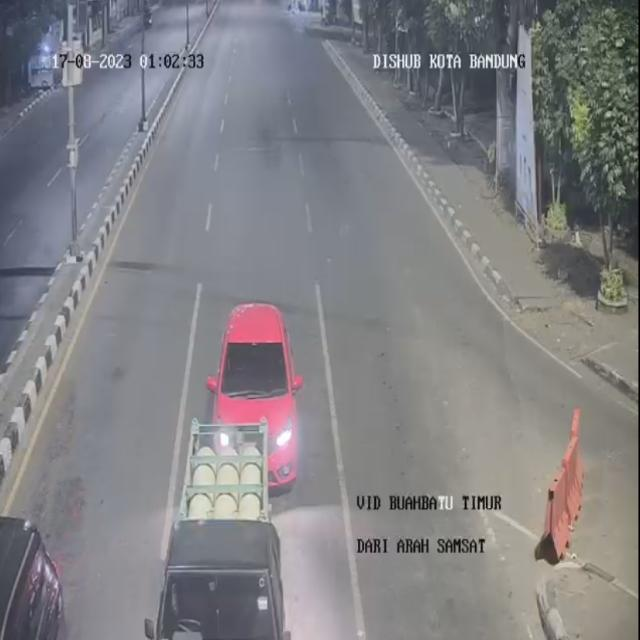cars: (165, 456, 296, 636), (210, 290, 307, 501), (0, 514, 64, 637)
